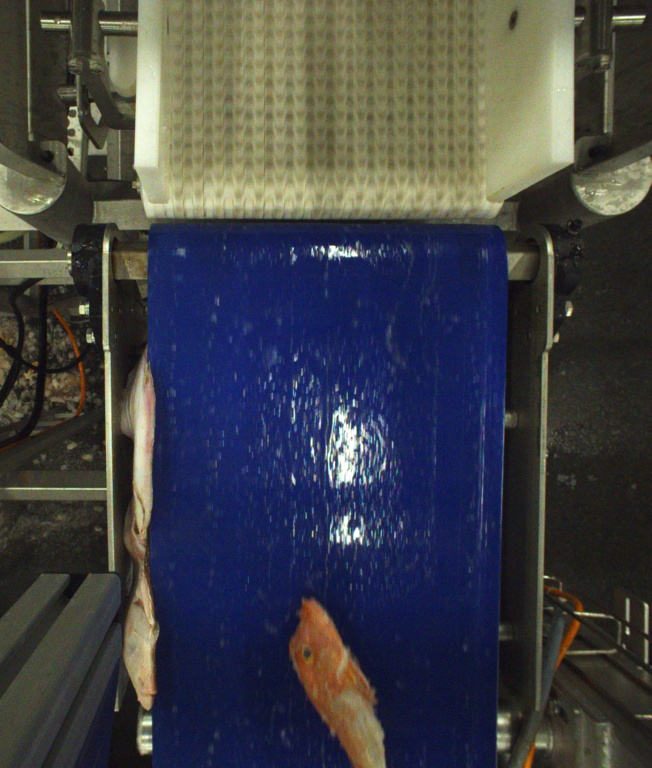GUU: (289, 600, 389, 768)
